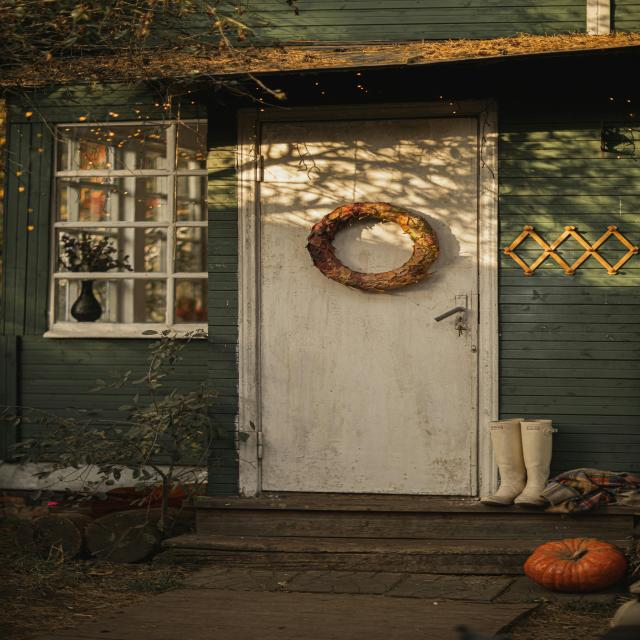door-handle: (435, 306, 465, 321)
